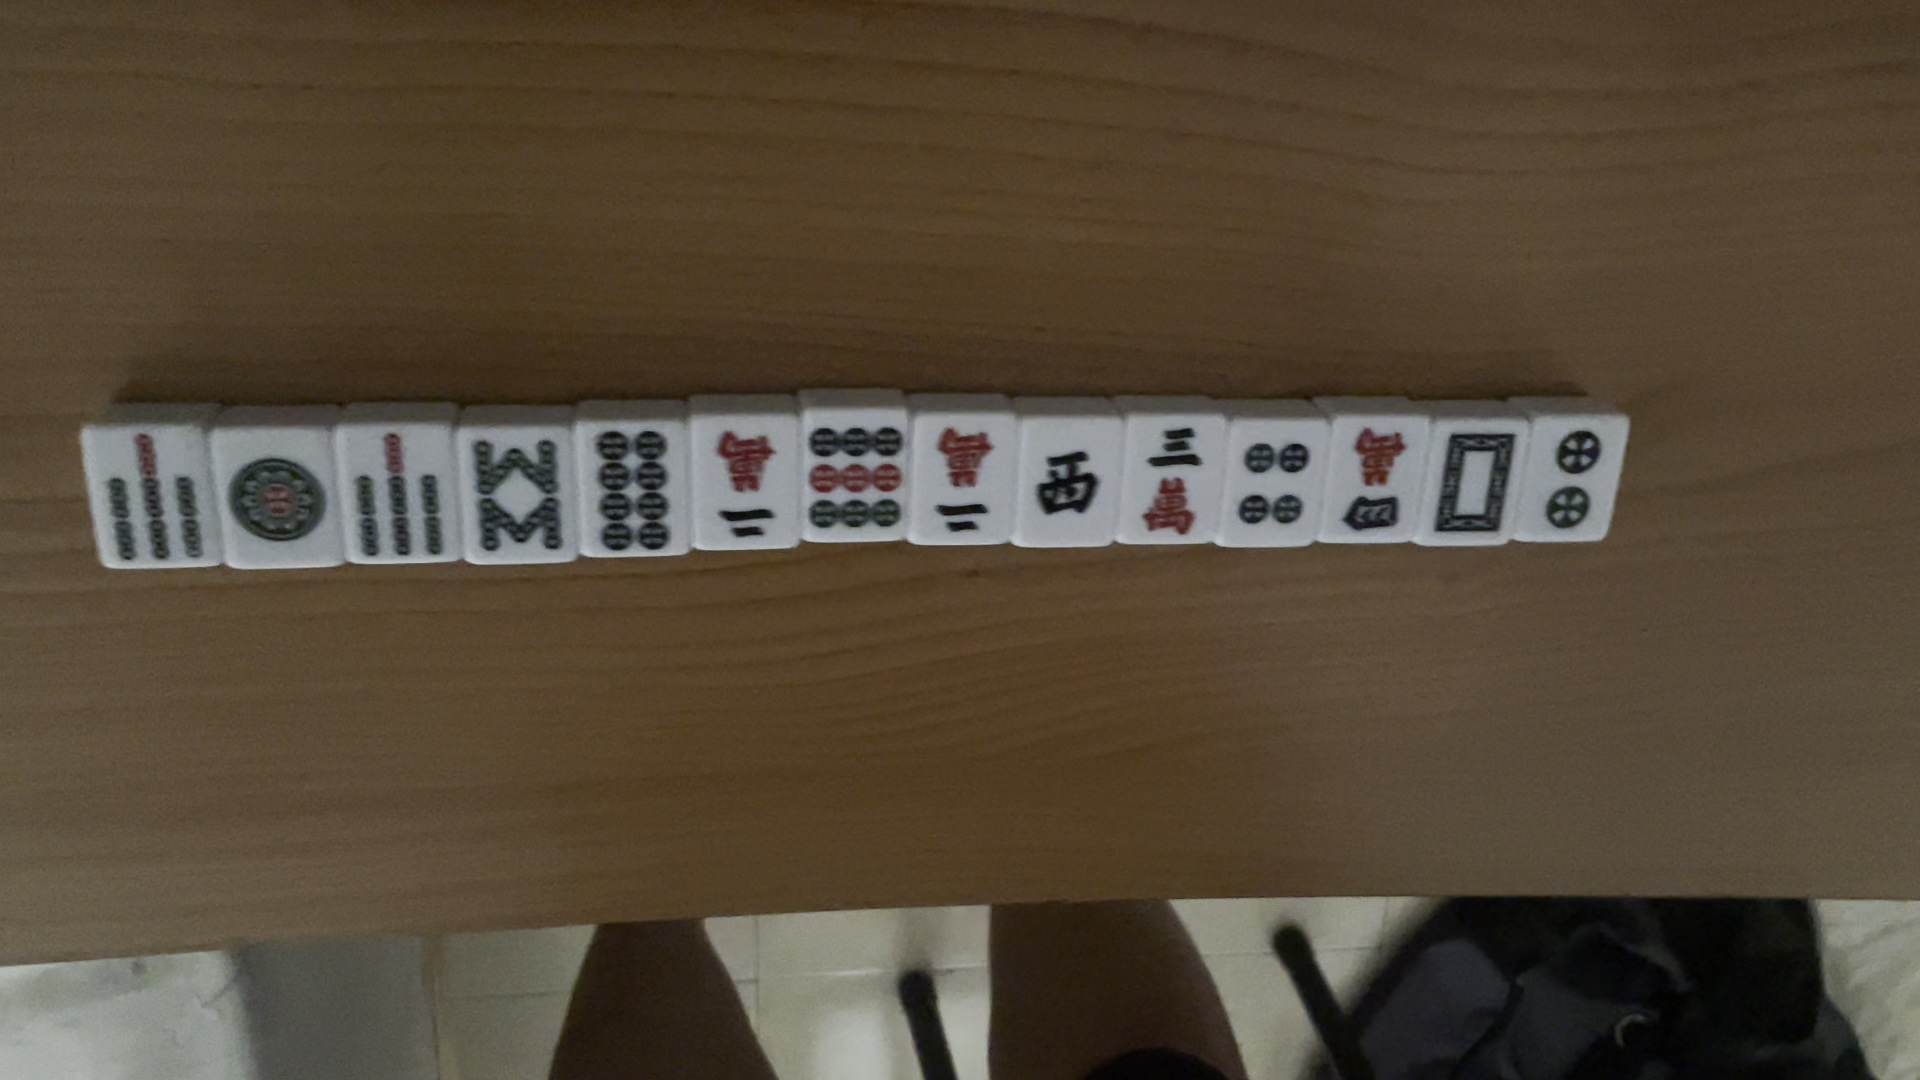b-7: (98, 430, 206, 564), (348, 433, 444, 560)
b-8: (465, 433, 567, 560)
c-2: (703, 422, 786, 545), (920, 419, 1004, 541)
c-3: (1135, 422, 1211, 541)
c-4: (1335, 429, 1407, 535)
d-1: (222, 450, 328, 550)
d-2: (1536, 422, 1613, 533)
d-4: (1236, 435, 1315, 527)
d-8: (591, 425, 670, 559)
d-9: (806, 421, 902, 534)
hornors-west: (1033, 434, 1102, 524)
hornors-white: (1433, 427, 1516, 535)
